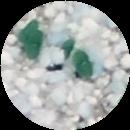Basil: (26, 33, 48, 61), (74, 51, 95, 76), (18, 20, 39, 38)
